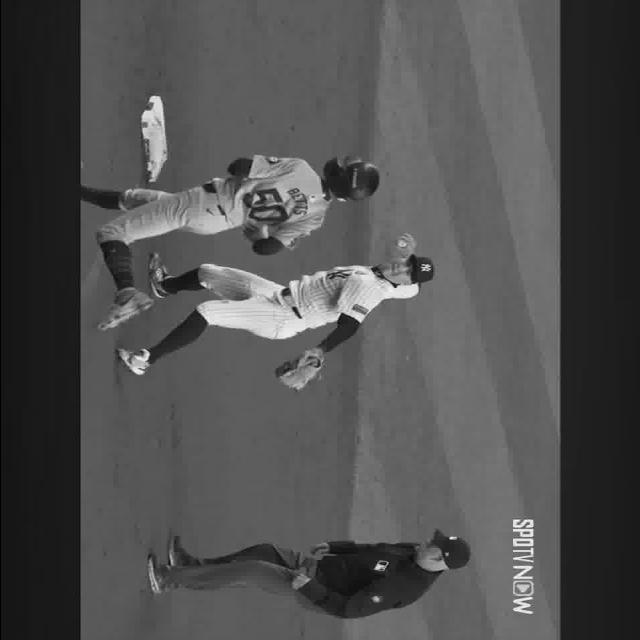base: (140, 96, 167, 182)
baseball: (395, 240, 405, 248)
baseball_glove: (275, 348, 323, 390)
shoe: (97, 288, 152, 330), (148, 252, 172, 299), (115, 349, 148, 375), (147, 554, 167, 594), (167, 536, 187, 566)
